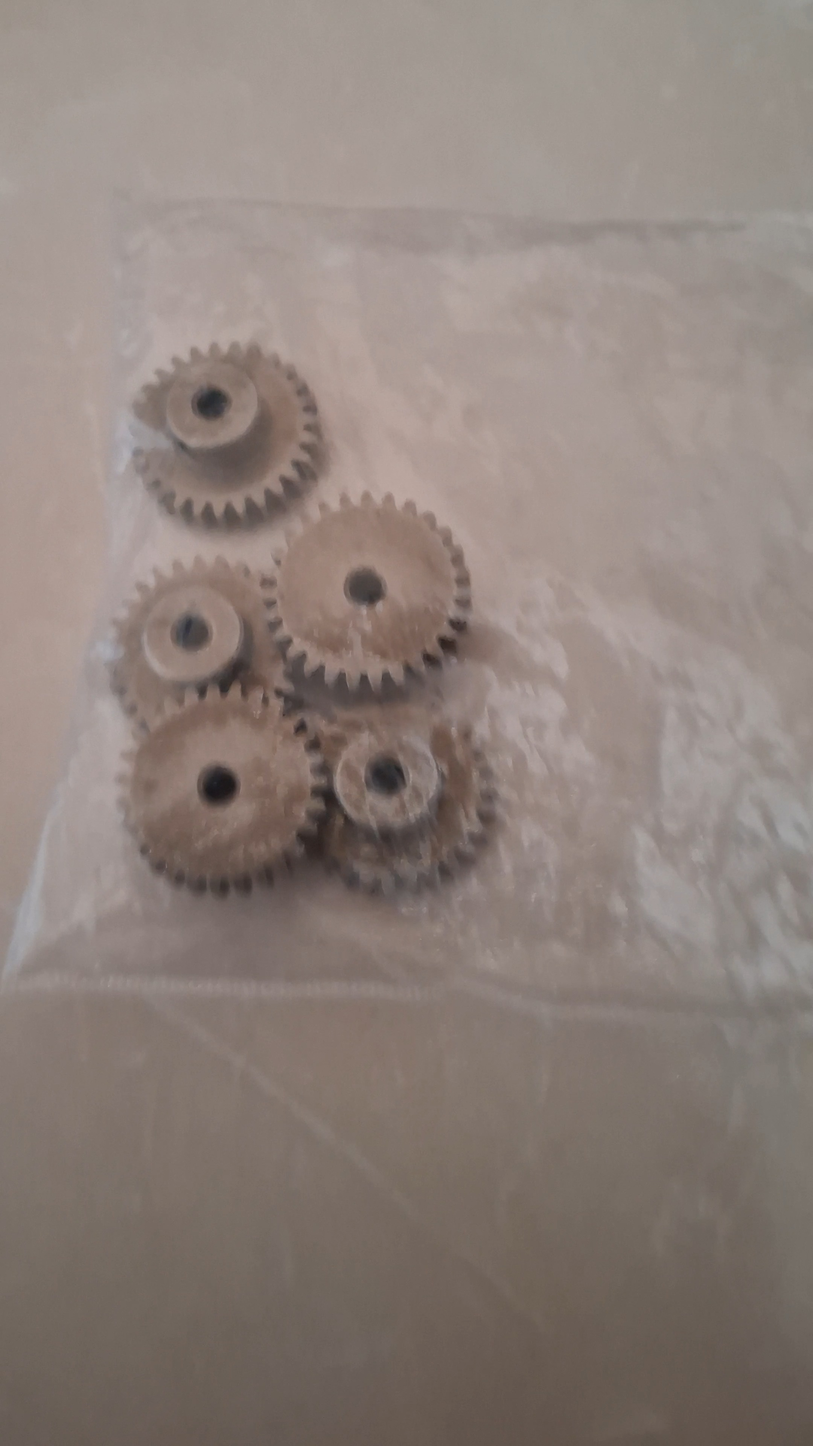spur gear: (122, 685, 325, 894), (267, 493, 470, 689), (134, 344, 320, 525), (320, 709, 495, 891), (111, 558, 289, 727)
